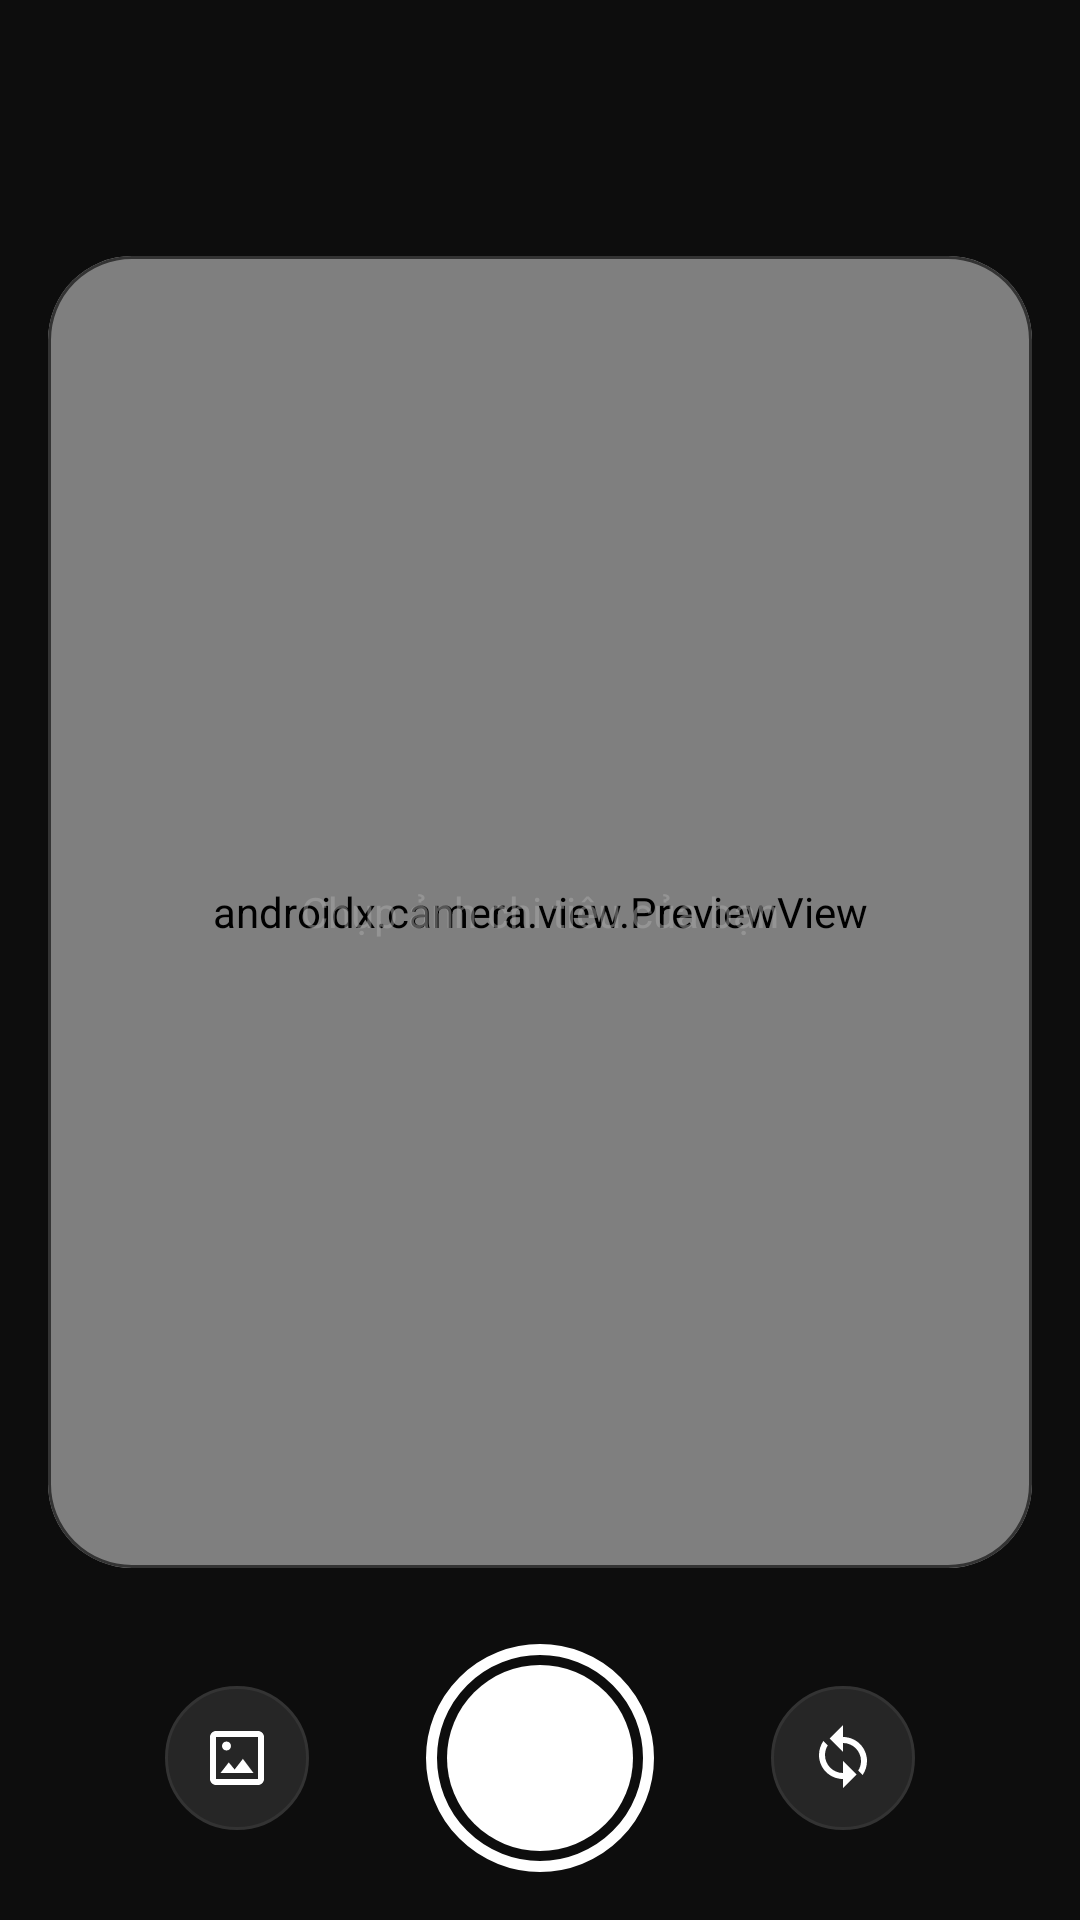

Screen size 1080px×1920px. Icon name, then its center in pixels as (x,y):
Flip Camera: (843,1758)
Gallery: (237,1758)
